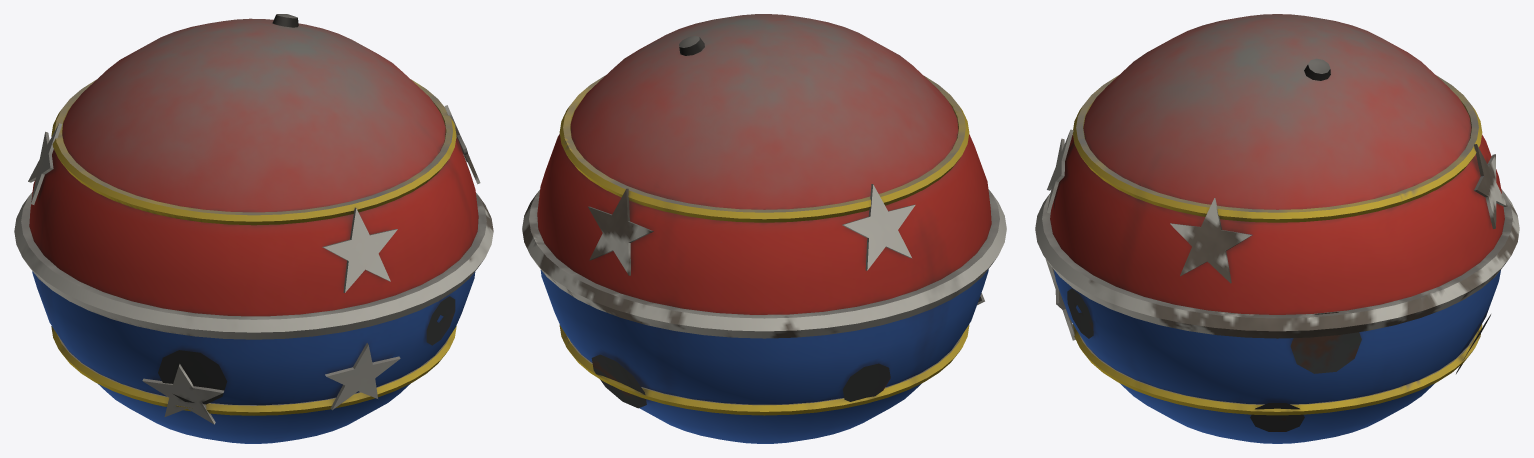
File: SM_Ball_Rubber.fbx
3 renders of one model, left to right at view 1: azimuth 30°, elevation 25°; view 2: azimuth 150°, elevation 25°; view 3: azimuth 270°, elevation 25°, orthographic.
Parts seen in each view (by area): view 1: SM_Ball_Rubber; view 2: SM_Ball_Rubber; view 3: SM_Ball_Rubber.
Part boxes in pixels (left/top/right/bottom): SM_Ball_Rubber: left=14, top=14, right=493, bottom=443; SM_Ball_Rubber: left=522, top=14, right=1006, bottom=443; SM_Ball_Rubber: left=1035, top=14, right=1519, bottom=443.
Bounding box in the file's own units: 0.212 × 0.186 × 0.212.
1 material, 1 textured.
